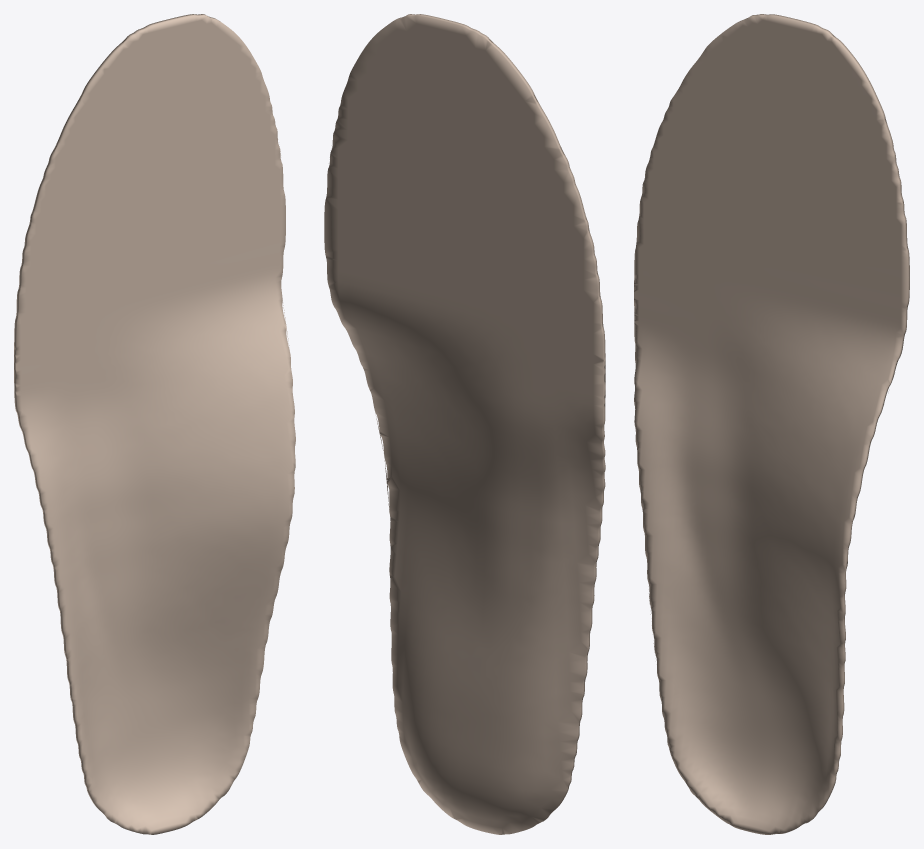
File: PAIR-TOP-COVER_T11_addon.glb
3 renders of one model, left to right at view 1: azimuth 30°, elevation 25°; view 2: azimuth 150°, elevation 25°; view 3: azimuth 330°, elevation 25°, orthographic. The views are drawn at different scales.
Visible parts, largest first — view 1: geometry_0; view 2: geometry_0; view 3: geometry_0.
Part boxes in pixels (x1=…): geometry_0: x1=14, y1=14, x2=295, y2=834; geometry_0: x1=324, y1=14, x2=605, y2=834; geometry_0: x1=634, y1=14, x2=909, y2=834.
Size of the model in its own units: 99.51 by 280 by 23.23.
